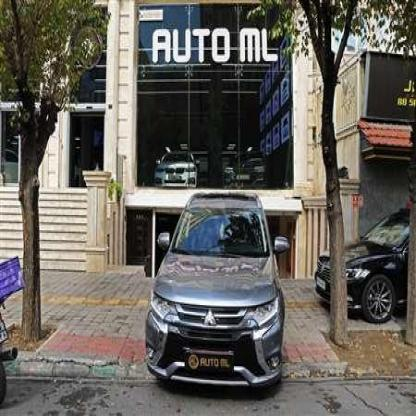Car: (147, 193, 287, 409), (316, 225, 416, 326), (150, 152, 203, 192)
